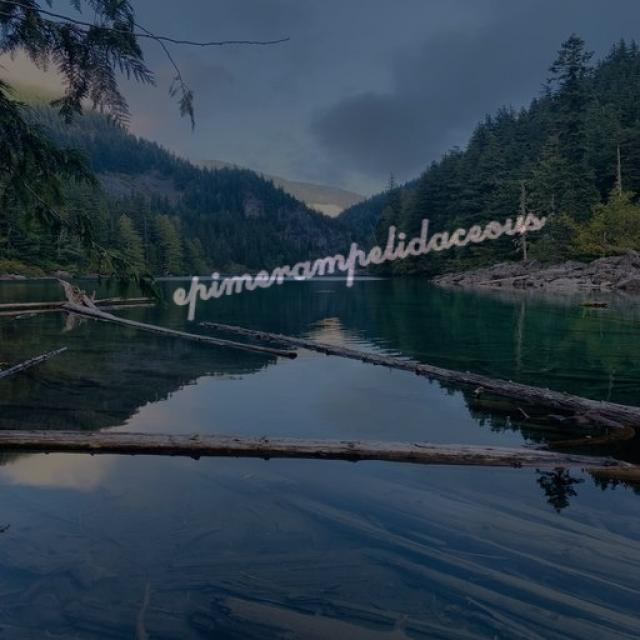watermark: (164, 192, 547, 312)
